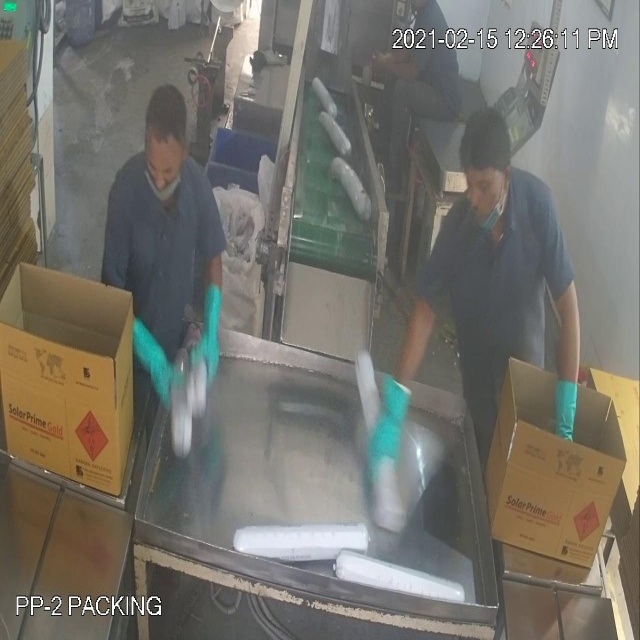Guantes: (364, 357, 421, 504), (120, 292, 183, 425), (183, 268, 232, 396), (546, 361, 583, 456)
Sin_guantes: (365, 48, 429, 88)
